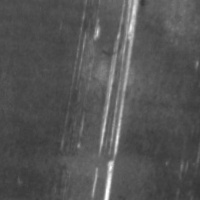scratches: (91, 1, 139, 199), (72, 5, 103, 64)
